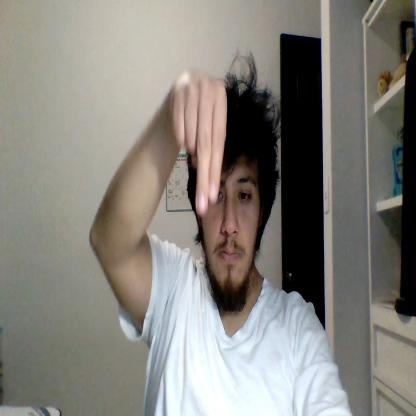N: (173, 69, 226, 215)
